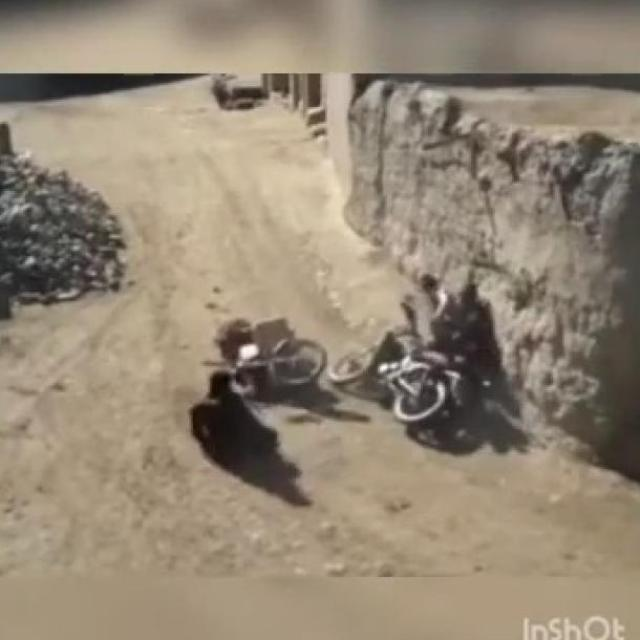accident: (327, 325, 489, 431), (201, 303, 327, 389)
